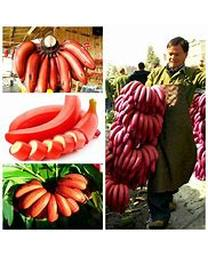banana: (6, 96, 104, 161), (13, 35, 95, 92), (16, 173, 89, 221)
